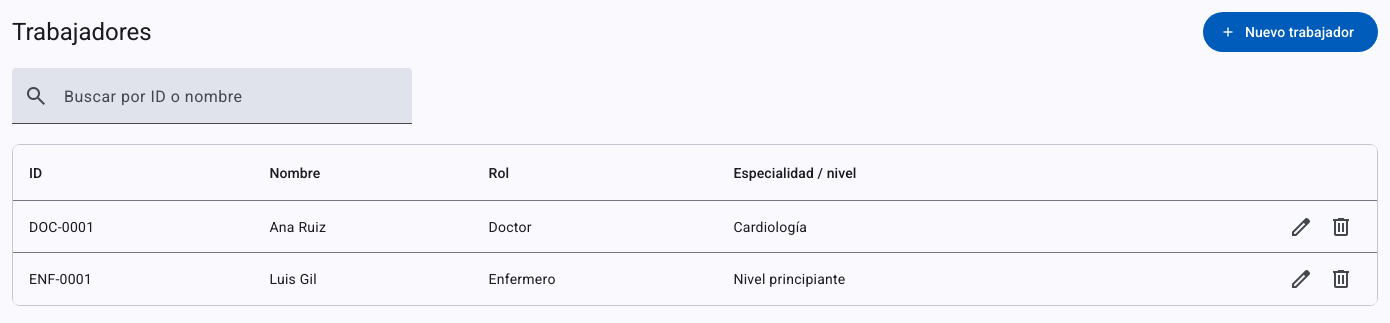
TrabajadoresListaComponent › busca en el servidor tras dejar de escribir
Type "zz" into the search field labelled "Buscar por ID o nombre" at (230, 104), box [64,92,396,116]
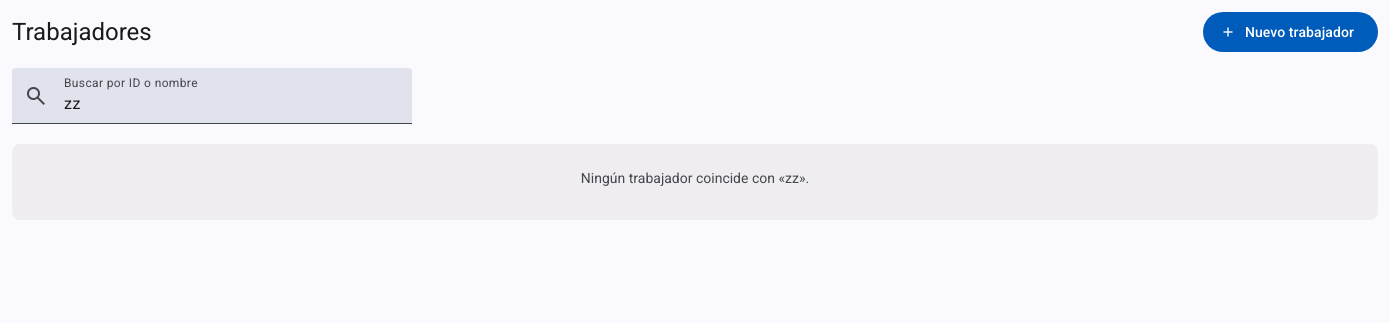
Now the text "Ningún trabajador coincide con «zz»." is shown, box [581,170,809,186]
